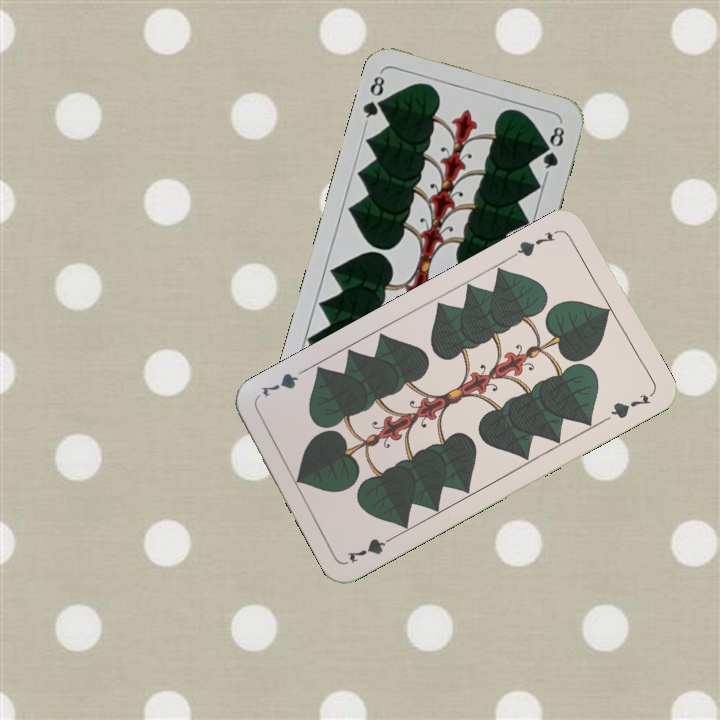G7: (343, 530, 400, 566), (508, 225, 563, 260)
G8: (358, 72, 390, 127)
